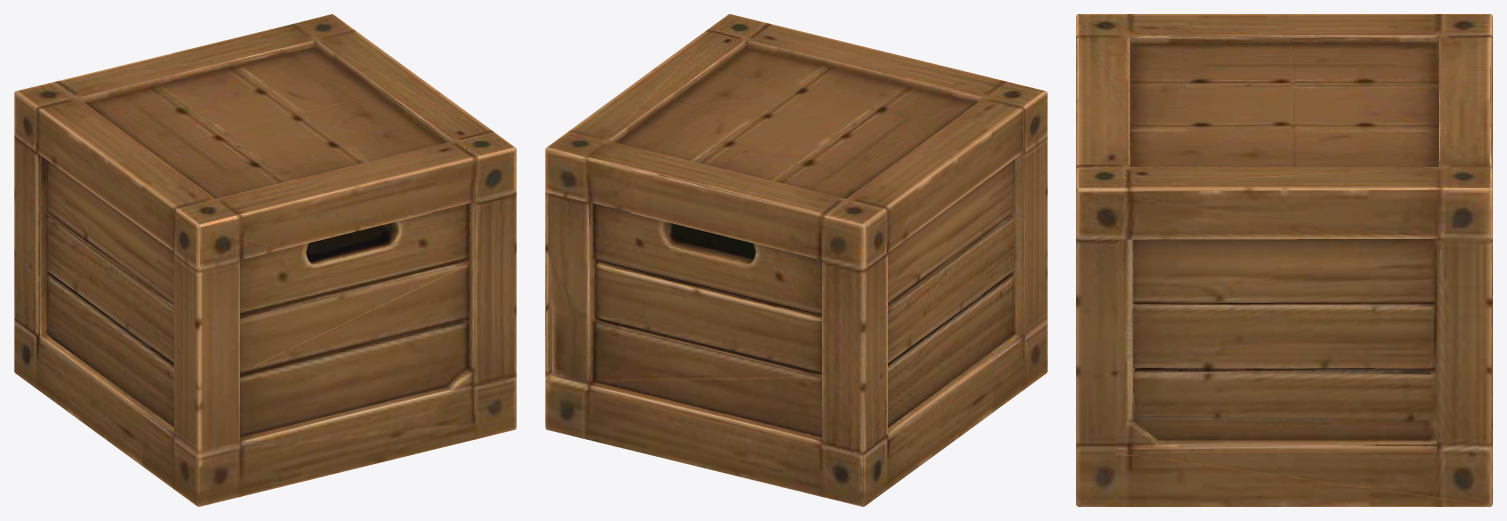
The model's file is sturdy-wooden-crate.glb.
3 renders of one model, left to right at view 1: azimuth 30°, elevation 25°; view 2: azimuth 150°, elevation 25°; view 3: azimuth 270°, elevation 25°, orthographic. The views are drawn at different scales.
Size of the model in its own units: 1.91 by 1.61 by 1.91.
Materials: 1 (1 with a texture image).
